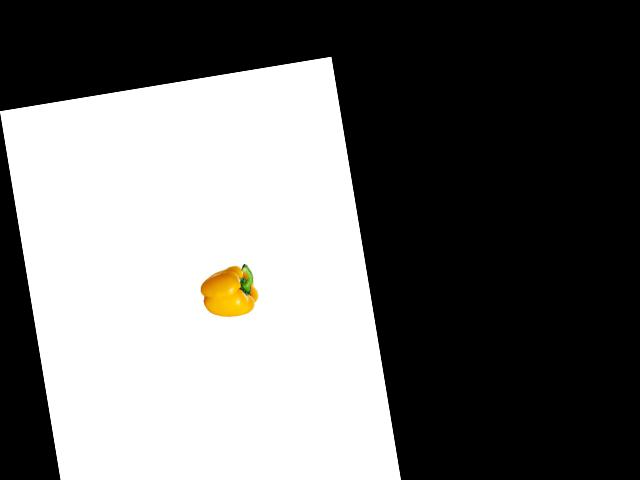bell_pepper: (194, 256, 266, 325)
